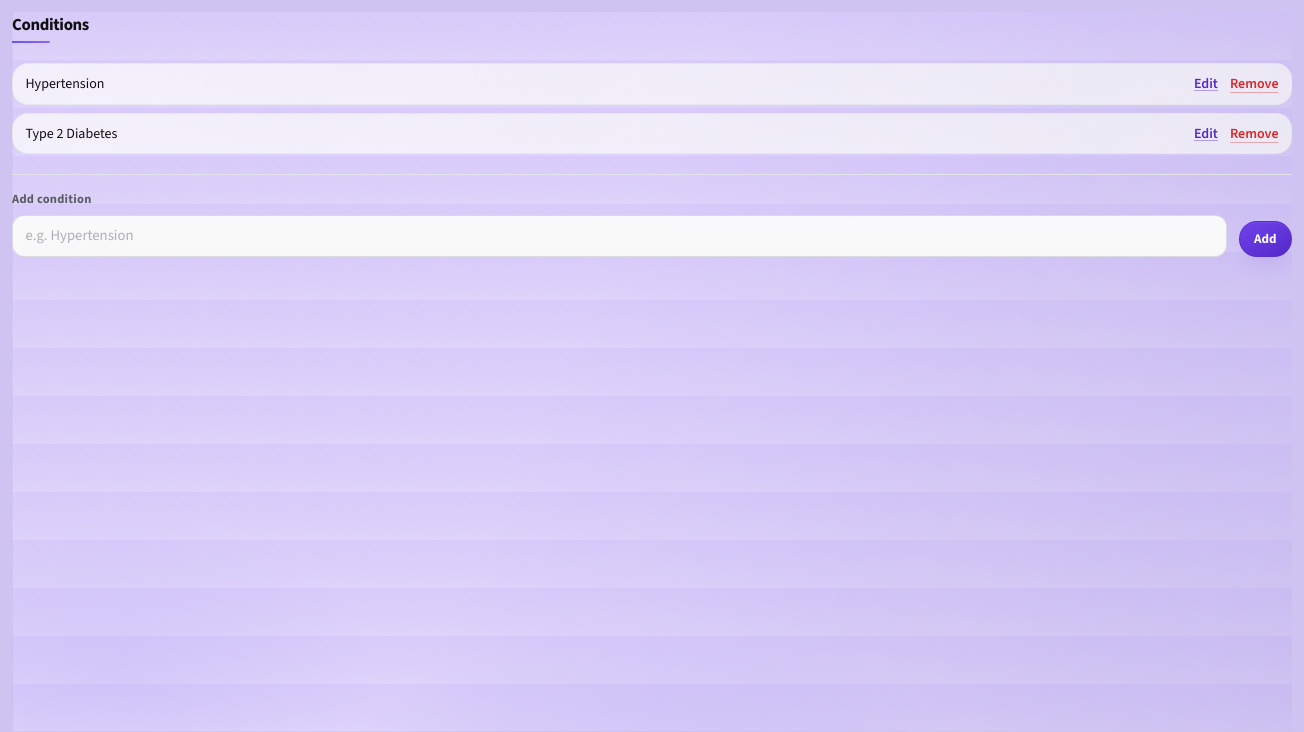
Test case: ConditionsTab › Remove button shows inline confirm/cancel — does not delete immediately
This screenshot has width=1304, height=732.
Expected: the text "Hypertension" is shown, [26,74,104,93]
Click the button "Remove" in the row of "Hypertension" at (1254, 84), box [1230,74,1278,94]
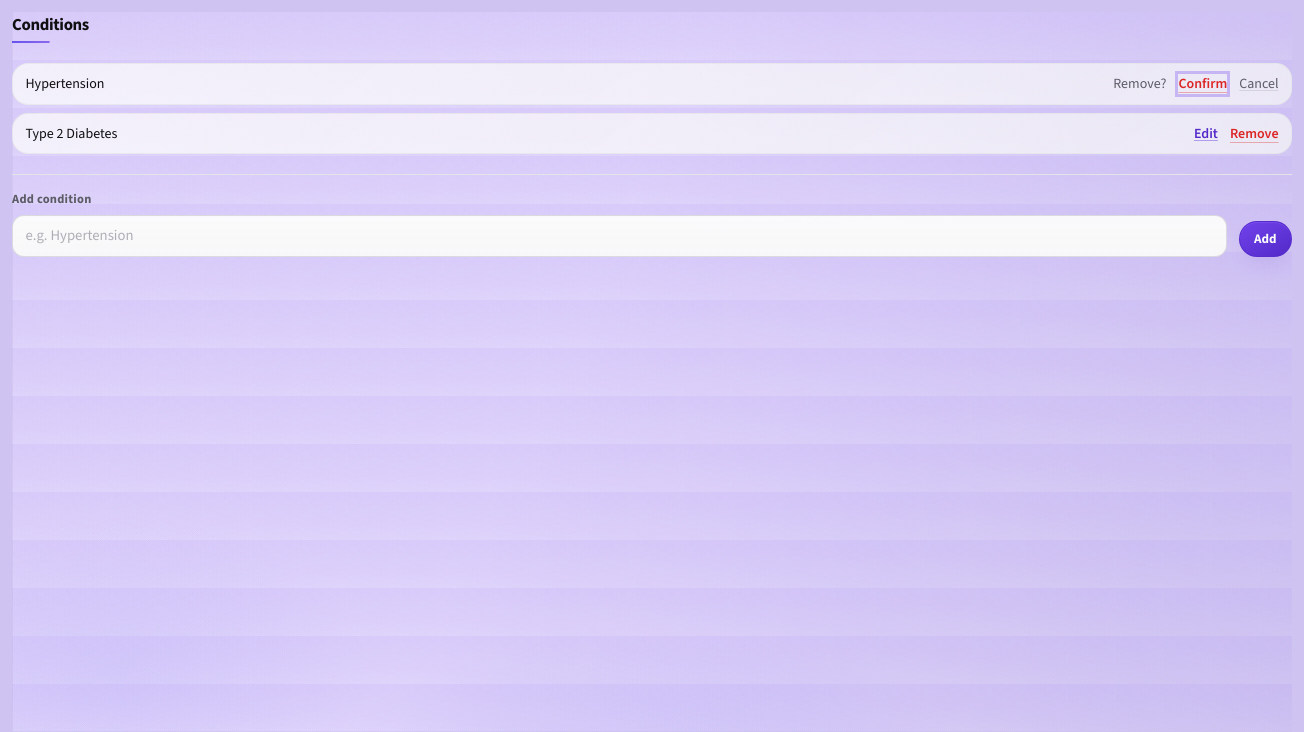
Result: the button "Confirm" is shown at [1178,74,1227,94]
Result: the button "Cancel" is shown at [1239,74,1278,94]
